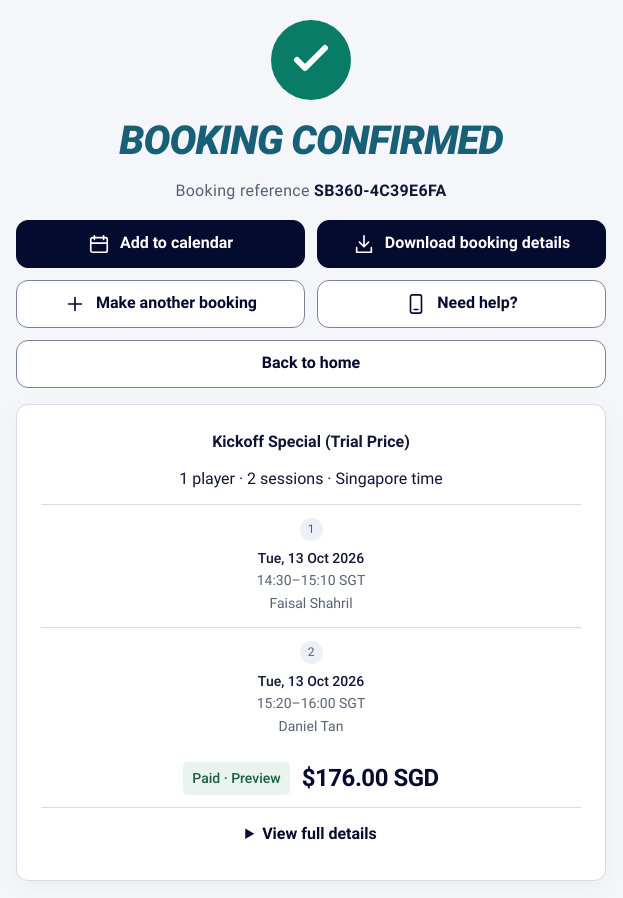
Scenario: confirmation places five actions above a compact summary and discloses complete details
The width and height of the screenshot is (623, 898).
Click the heading "View full details": (320, 833) [262, 824, 377, 843]
(page scrolled)
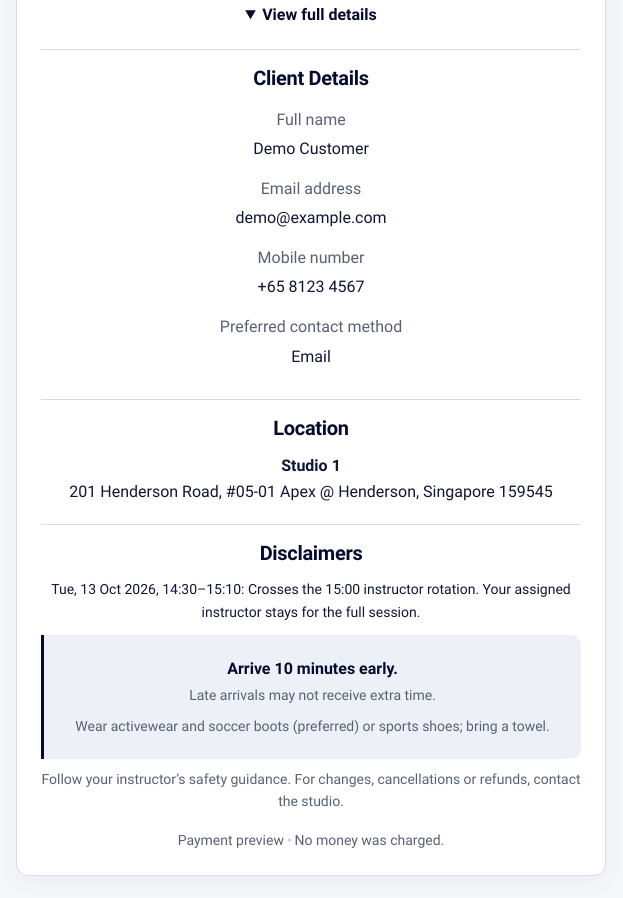
Expected: the headings read "Client Details", "Location", "Disclaimers", in this order, [253, 66, 369, 90]; [273, 416, 349, 440]; [260, 542, 362, 566]
Expected: the text "Demo Customer" is shown once, [253, 139, 369, 158]
Expected: the text "Studio 1" is shown once, [281, 456, 341, 475]
